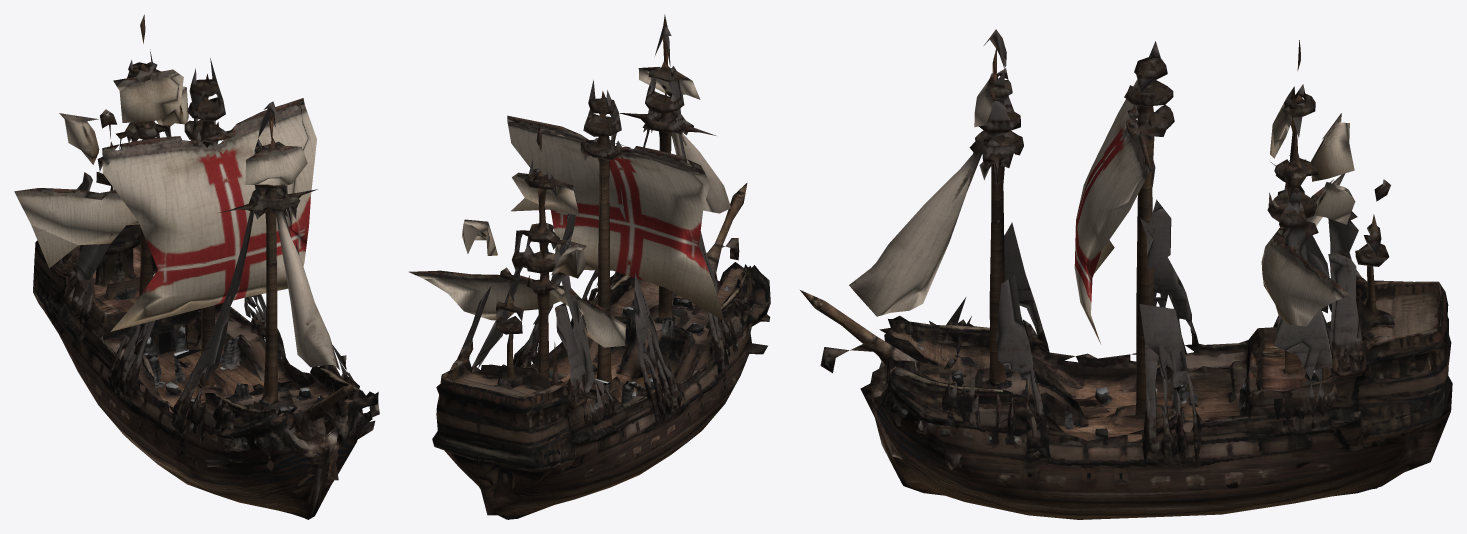
File: carrack.glb
3 renders of one model, left to right at view 1: azimuth 30°, elevation 25°; view 2: azimuth 150°, elevation 25°; view 3: azimuth 270°, elevation 25°, orthographic. The views are drawn at different scales.
Visible parts, largest first — view 1: geometry_0; view 2: geometry_0; view 3: geometry_0.
Boxes of the visible parts, x1,y1,x2,y2 form: geometry_0: [14, 14, 379, 519]; geometry_0: [409, 14, 770, 519]; geometry_0: [800, 29, 1452, 519].
Bounding box in the file's own units: 0.4484 × 0.7786 × 0.9563.
Materials: 1 (1 with a texture image).
